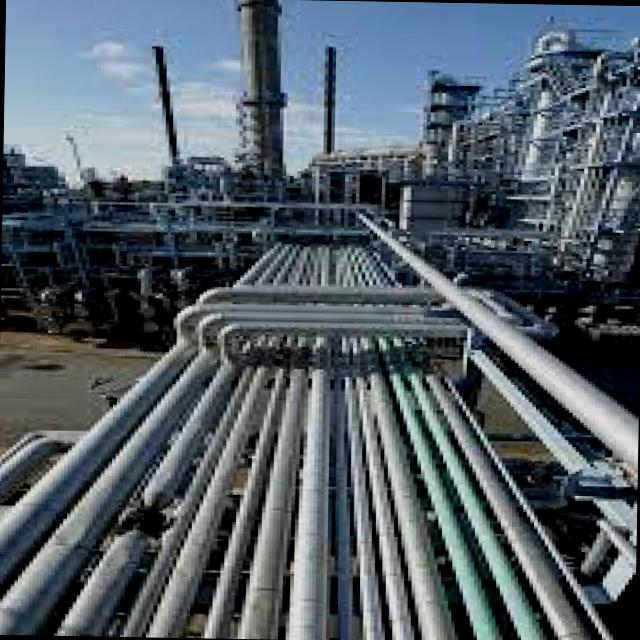gas: (362, 215, 638, 472), (0, 352, 214, 635), (0, 342, 195, 591), (438, 394, 591, 640), (145, 384, 251, 638), (368, 373, 457, 640), (119, 421, 228, 637), (200, 369, 283, 638), (404, 413, 501, 640), (439, 442, 542, 640), (236, 369, 302, 639), (198, 243, 429, 304), (473, 350, 586, 473), (143, 364, 229, 506), (287, 368, 325, 640), (53, 530, 146, 636), (349, 424, 383, 640), (219, 307, 456, 336), (198, 284, 431, 304), (336, 426, 355, 640), (566, 467, 633, 499), (196, 365, 229, 415), (228, 380, 247, 420)
